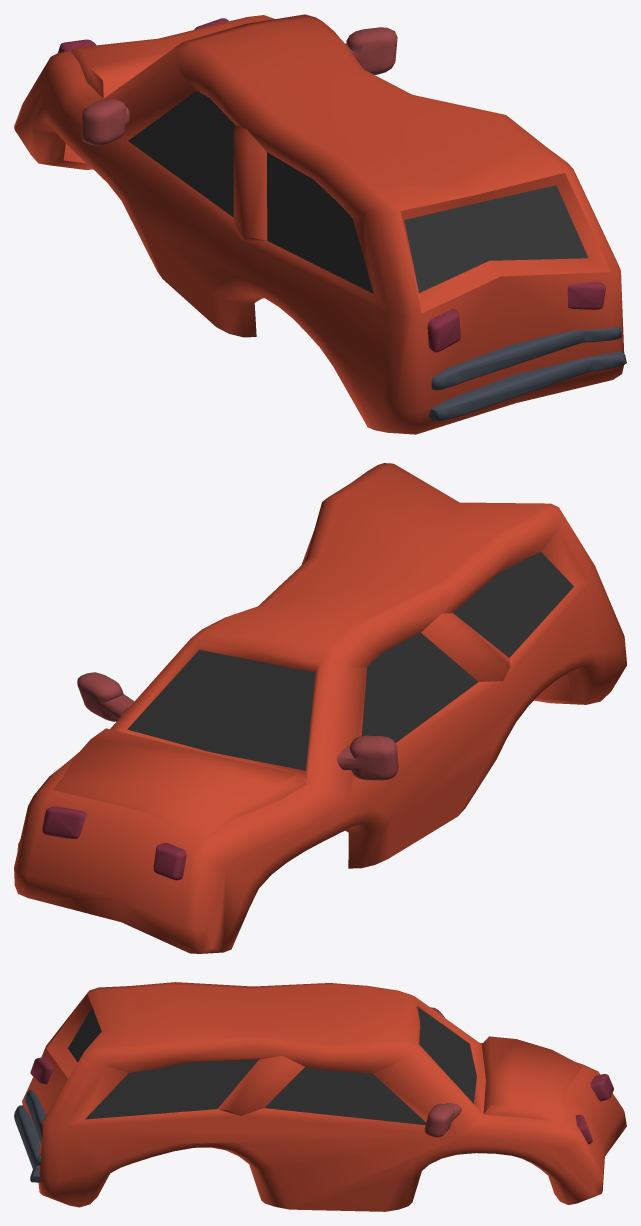
Rendered from car1 (1).fbx.
The picture shows the model from 3 angles, top to bottom: view 1: azimuth 30°, elevation 25°; view 2: azimuth 150°, elevation 25°; view 3: azimuth 270°, elevation 25°; orthographic projection. The views are drawn at different scales.
Visible parts, largest first — view 1: Cube; view 2: Cube; view 3: Cube.
Boxes of the visible parts, bbox=[...] form: Cube: bbox=[14, 14, 626, 434]; Cube: bbox=[14, 463, 626, 953]; Cube: bbox=[14, 982, 626, 1211].
Size of the model in its own units: 2.38 by 1.6 by 5.48.
1 material, 1 textured.
